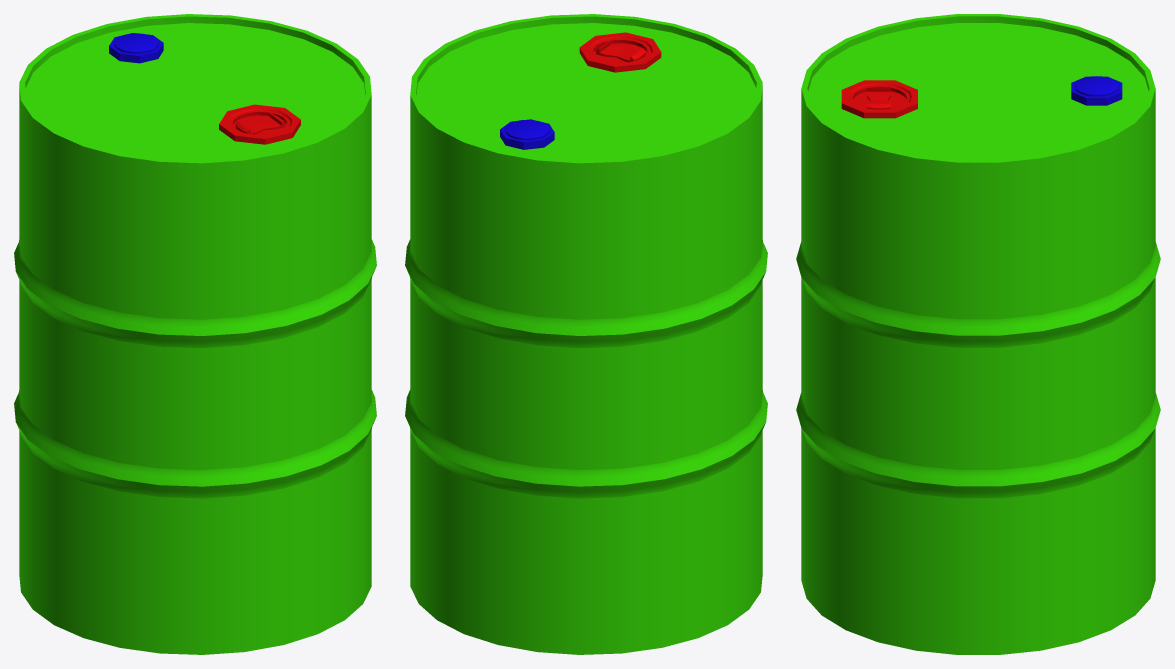
Rendered from Barrel.fbx.
3 renders of one model, left to right at view 1: azimuth 30°, elevation 25°; view 2: azimuth 150°, elevation 25°; view 3: azimuth 270°, elevation 25°, orthographic.
Visible parts, largest first — view 1: Barrel; view 2: Barrel; view 3: Barrel.
Boxes of the visible parts, left/top/right/bottom form: Barrel: left=14, top=14, right=376, bottom=654; Barrel: left=405, top=14, right=767, bottom=654; Barrel: left=796, top=14, right=1160, bottom=654.
Bounding box in the file's own units: 57.88 × 87.5 × 58.31.
